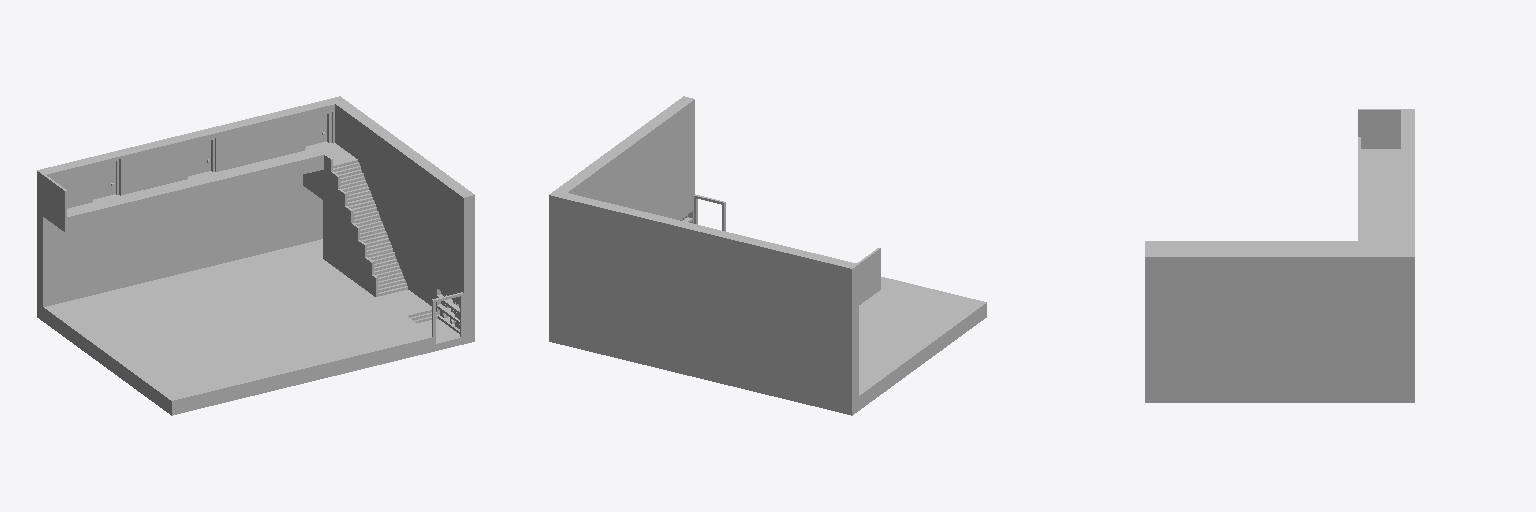
The model's file is interior 1.obj.
3 renders of one model, left to right at view 1: azimuth 30°, elevation 25°; view 2: azimuth 150°, elevation 25°; view 3: azimuth 270°, elevation 25°, orthographic.
Parts seen in each view (by area): view 1: object 1; view 2: object 1; view 3: object 1.
Boxes of the visible parts, x1,y1,x2,y2 form: object 1: [37, 96, 474, 415]; object 1: [549, 96, 986, 415]; object 1: [1145, 109, 1414, 402].
Bounding box in the file's own units: 13 × 6 × 10.